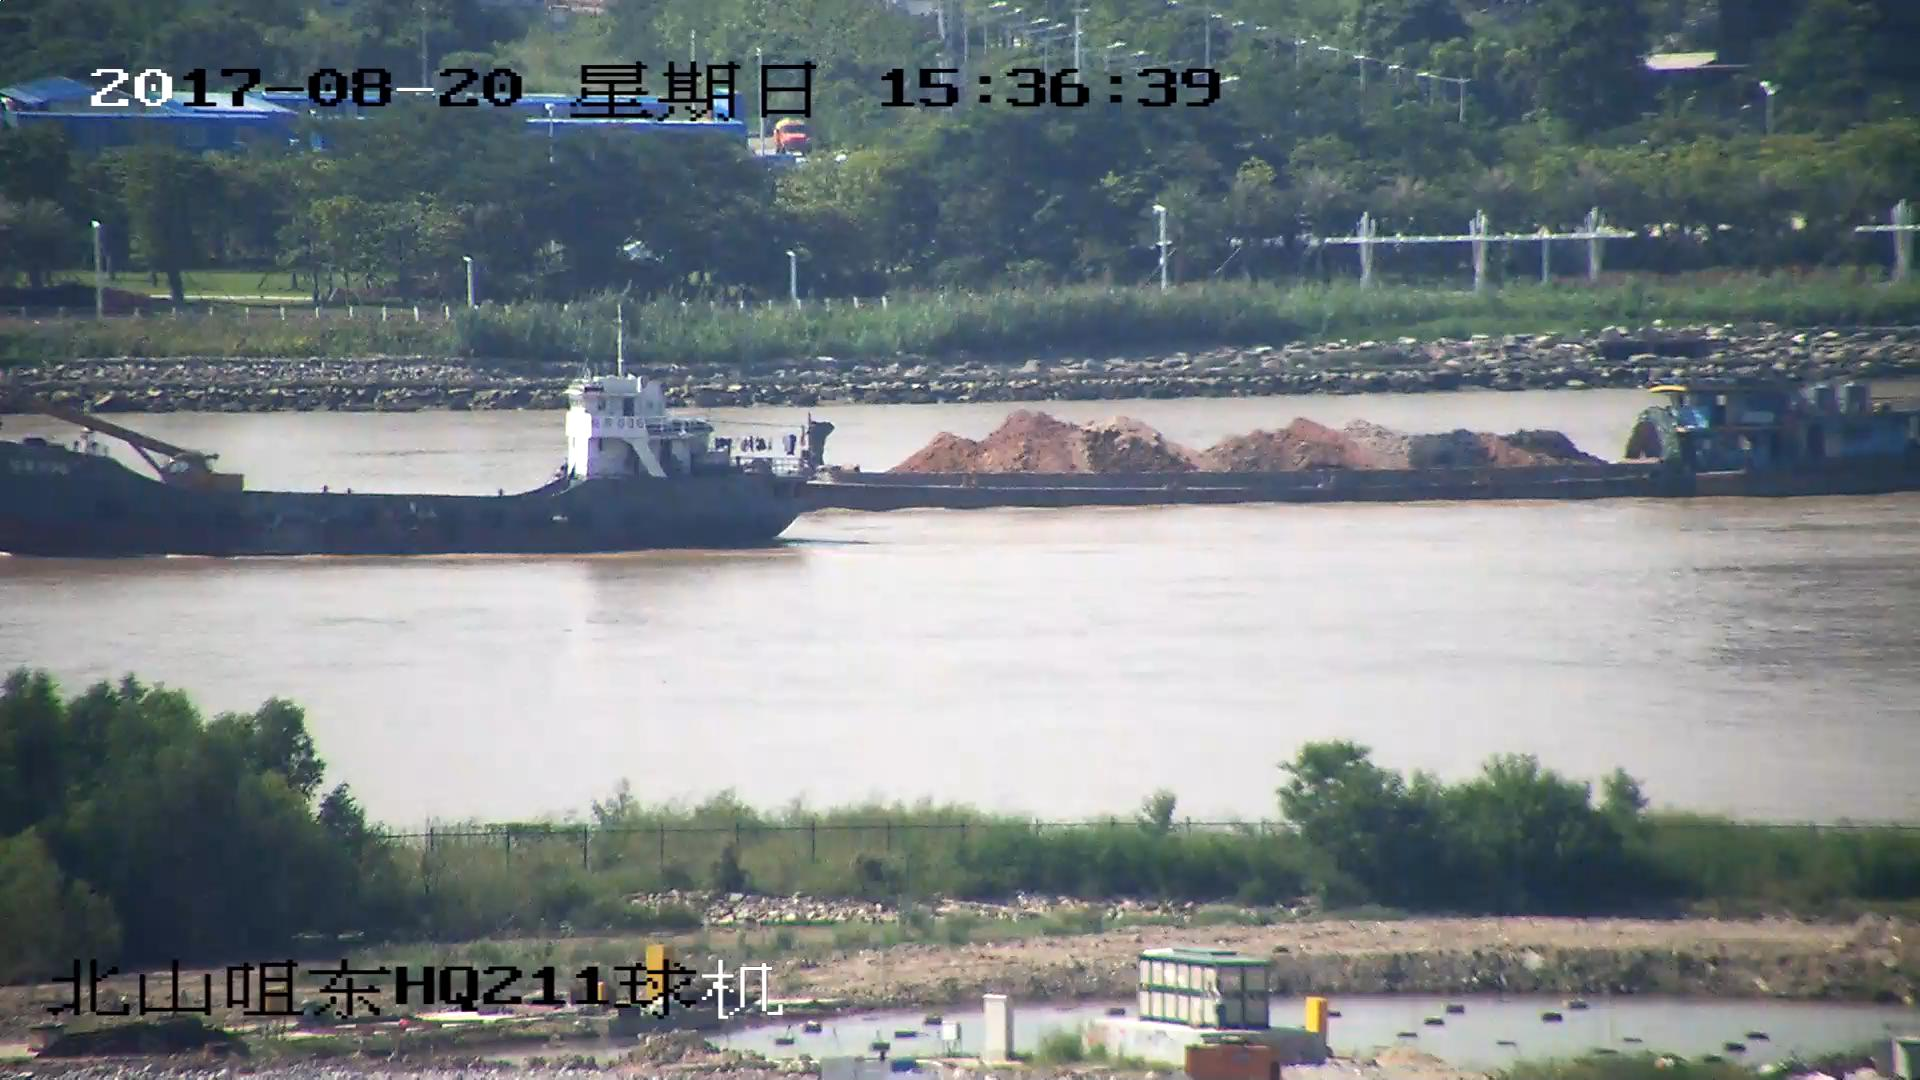general cargo ship: (1, 316, 831, 553)
ore carrier: (736, 374, 1920, 506)
